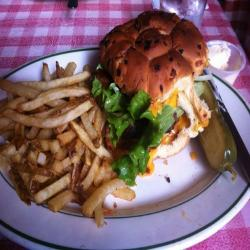burger: (92, 4, 213, 183)
fries: (1, 65, 130, 213)
